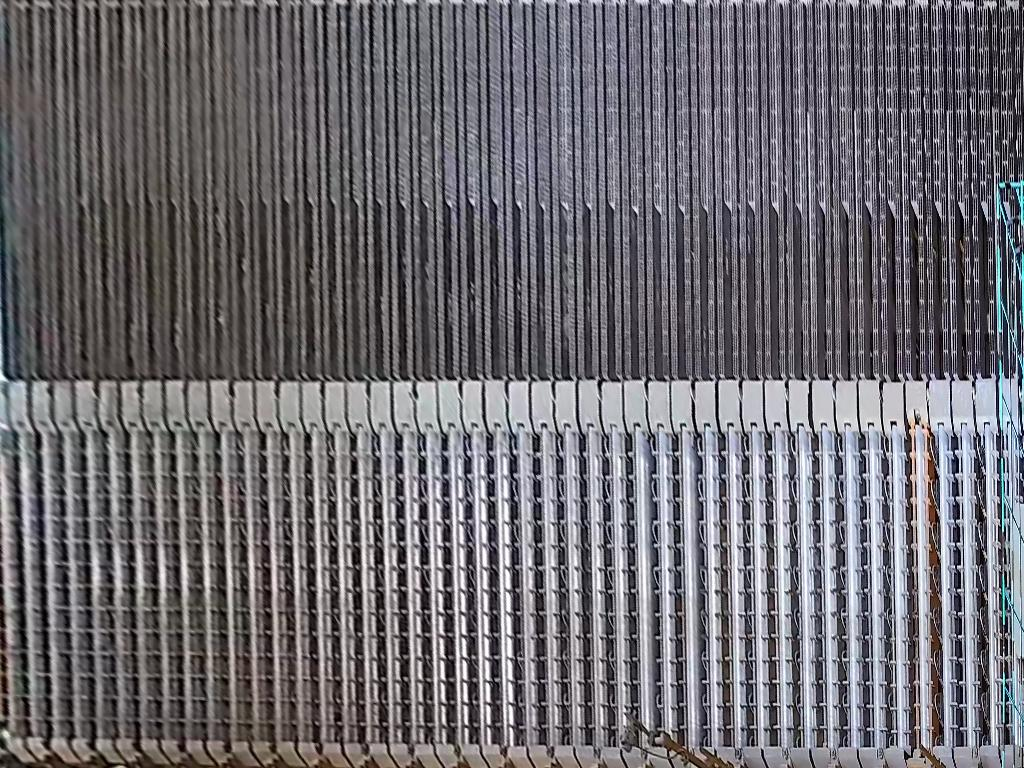steel: (1006, 502, 1024, 659)
